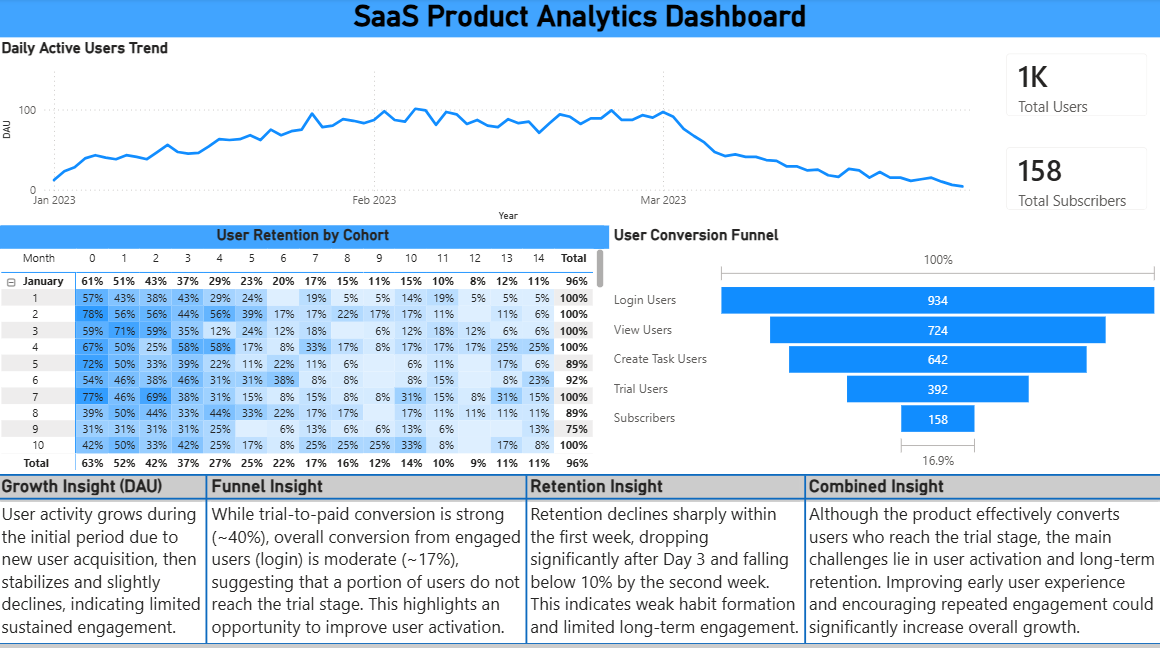

The dashboard page shown, as its layout file describes it:
{"tool":"powerbi","page":{"name":"Dashboard","canvas":[1280,720],"ordinal":0},"visuals":[{"type":"lineChart","title":"Daily Active Users Trend","fields":{"Y":["DateTable.DAU"],"Category":["DateTable.Date.Variation.Date Hierarchy.Year","DateTable.Date.Variation.Date Hierarchy.Month","DateTable.Date.Variation.Date Hierarchy.Day"]},"box":[0,43.5,1091,206.5],"z":0},{"type":"shape","title":"SaaS Product Analytics Dashboard","box":[0,0,1280,43.5],"z":1000},{"type":"cardVisual","fields":{"Data":["Count(saas_users.user_id)"]},"box":[1091,43.5,189.1,103.2],"z":2000},{"type":"cardVisual","fields":{"Data":["Count(saas_subscriptions.user_id)"]},"box":[1091,146.8,189.1,103.2],"z":3000},{"type":"funnel","title":"User Conversion Funnel","fields":{"Y":["DateTable.Login Users","DateTable.View Users","DateTable.Create Task Users","DateTable.Trial Users","DateTable.Subscribers"]},"box":[671.7,250,608.3,273.7],"z":4000},{"type":"pivotTable","title":"User Retention by Cohort","fields":{"Rows":["saas_users.signup_date.Variation.Date Hierarchy.Month","saas_users.signup_date.Variation.Date Hierarchy.Day"],"Columns":["saas_events.Day Number"],"Values":["saas_users.Retention Rate"]},"box":[0,250,671.7,273.7],"z":5000},{"type":"textbox","title":"Growth Insight (DAU)","box":[0,523.7,230.1,196.5],"z":6000},{"type":"textbox","title":"Funnel Insight","box":[230.1,523.7,350.8,196.5],"z":7000},{"type":"textbox","title":"Retention Insight","box":[580.9,523.7,306,196.5],"z":8000},{"type":"textbox","title":"Combined Insight","box":[886.9,523.7,393.1,196.5],"z":9000},{"type":"shape","box":[574.7,523.7,12.4,196.5],"z":10000},{"type":"shape","box":[880.7,523.7,12.4,196.5],"z":11000},{"type":"shape","box":[0,543.6,1280,12.4],"z":12000},{"type":"shape","box":[0,517.5,1280,12.4],"z":13000},{"type":"shape","box":[223.9,523.7,12.4,196.5],"z":14000},{"type":"shape","box":[0,707.8,1280,12.4],"z":14001}]}

Visuals, with their boxes in screenshot pixels (x1, y1, x2, y2), scaled from the page's 1280x720 canvas onto the 1160x648 screenshot:
"Daily Active Users Trend" lineChart: BBox(0, 39, 989, 225)
"SaaS Product Analytics Dashboard" shape: BBox(0, 0, 1159, 39)
cardVisual - Count(saas_users.user_id): BBox(989, 39, 1159, 132)
cardVisual - Count(saas_subscriptions.user_id): BBox(989, 132, 1159, 225)
"User Conversion Funnel" funnel: BBox(609, 225, 1159, 471)
"User Retention by Cohort" pivotTable: BBox(0, 225, 609, 471)
"Growth Insight (DAU)" textbox: BBox(0, 471, 209, 647)
"Funnel Insight" textbox: BBox(209, 471, 526, 647)
"Retention Insight" textbox: BBox(526, 471, 804, 647)
"Combined Insight" textbox: BBox(804, 471, 1159, 647)
shape: BBox(521, 471, 532, 647)
shape: BBox(798, 471, 809, 647)
shape: BBox(0, 489, 1159, 500)
shape: BBox(0, 466, 1159, 477)
shape: BBox(203, 471, 214, 647)
shape: BBox(0, 637, 1159, 647)
